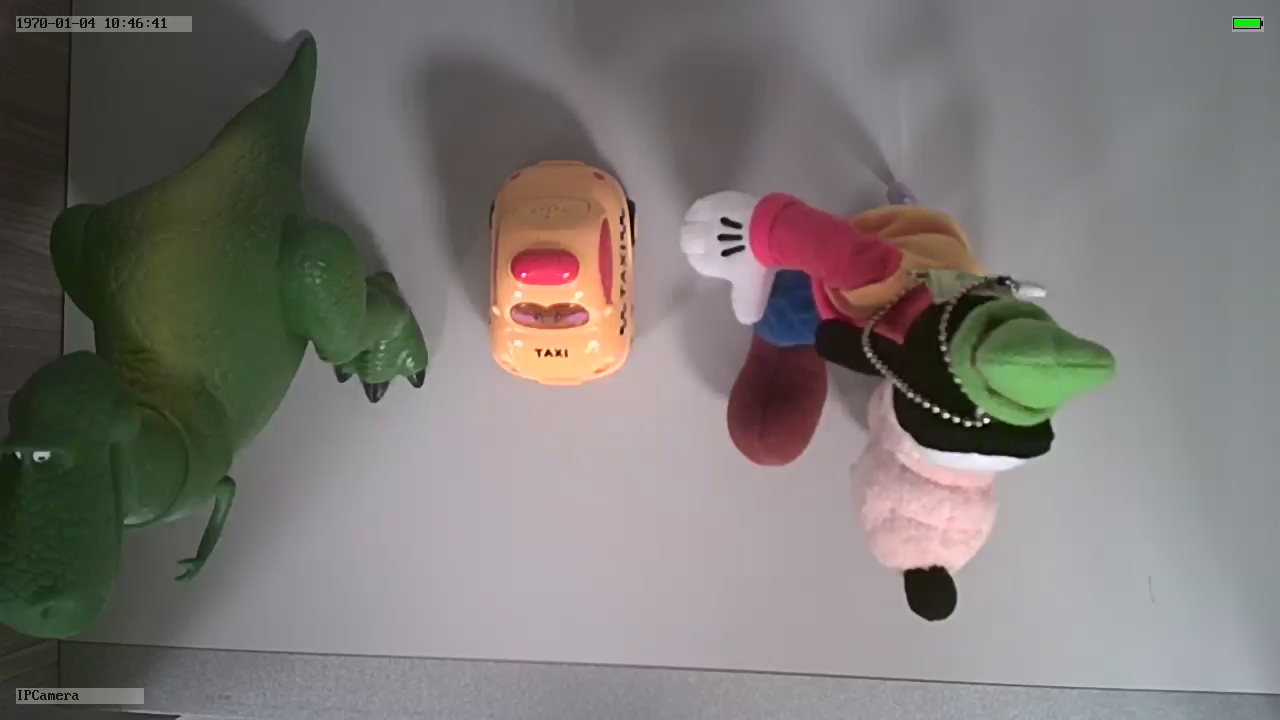goofy: (679, 182, 1115, 629)
